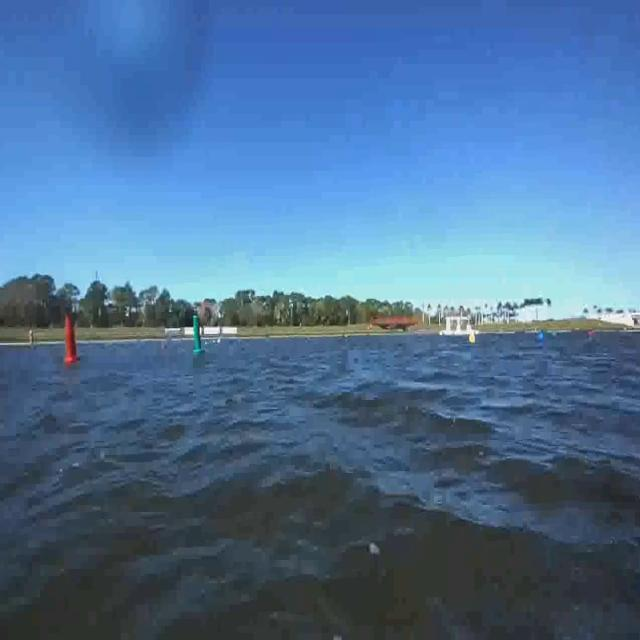green-column-buoy: (190, 305, 208, 358)
red-column-buoy: (58, 312, 85, 375)
